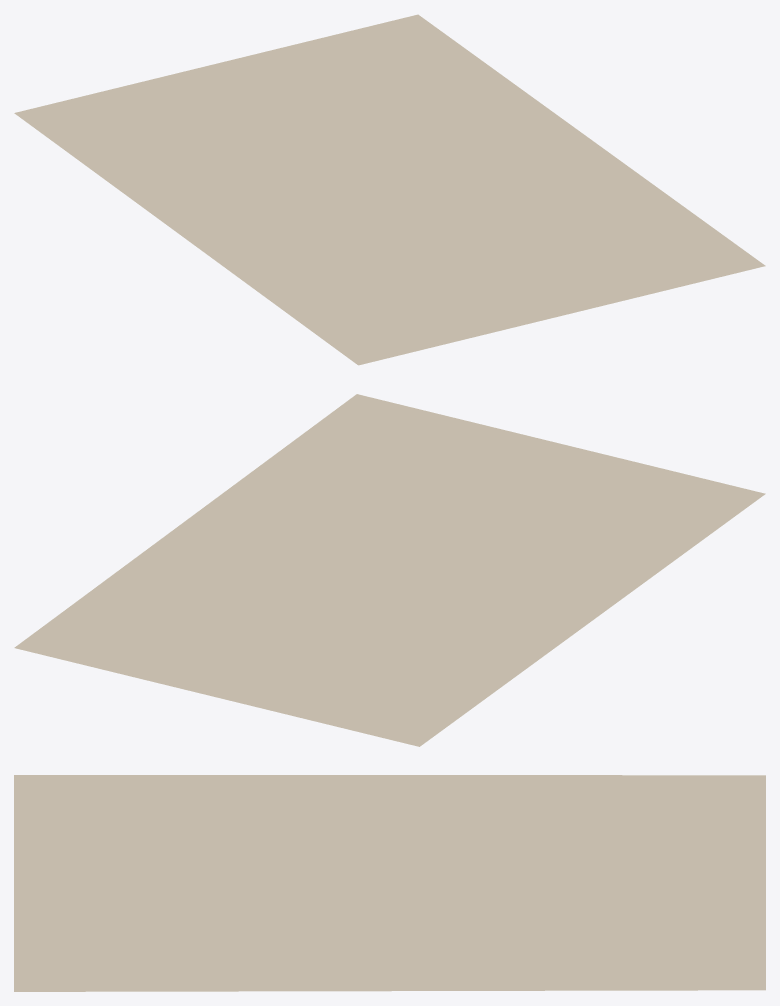
File: donkey-closed-slice-base.glb
The picture shows the model from 3 angles, top to bottom: view 1: azimuth 30°, elevation 25°; view 2: azimuth 150°, elevation 25°; view 3: azimuth 270°, elevation 25°; orthographic projection. The views are drawn at different scales.
Size of the model in its own units: 0.55 by 1.19e-07 by 0.8057.
